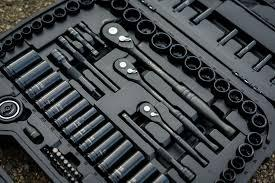wrench: (99, 20, 237, 139), (111, 56, 221, 153), (135, 99, 209, 166)
